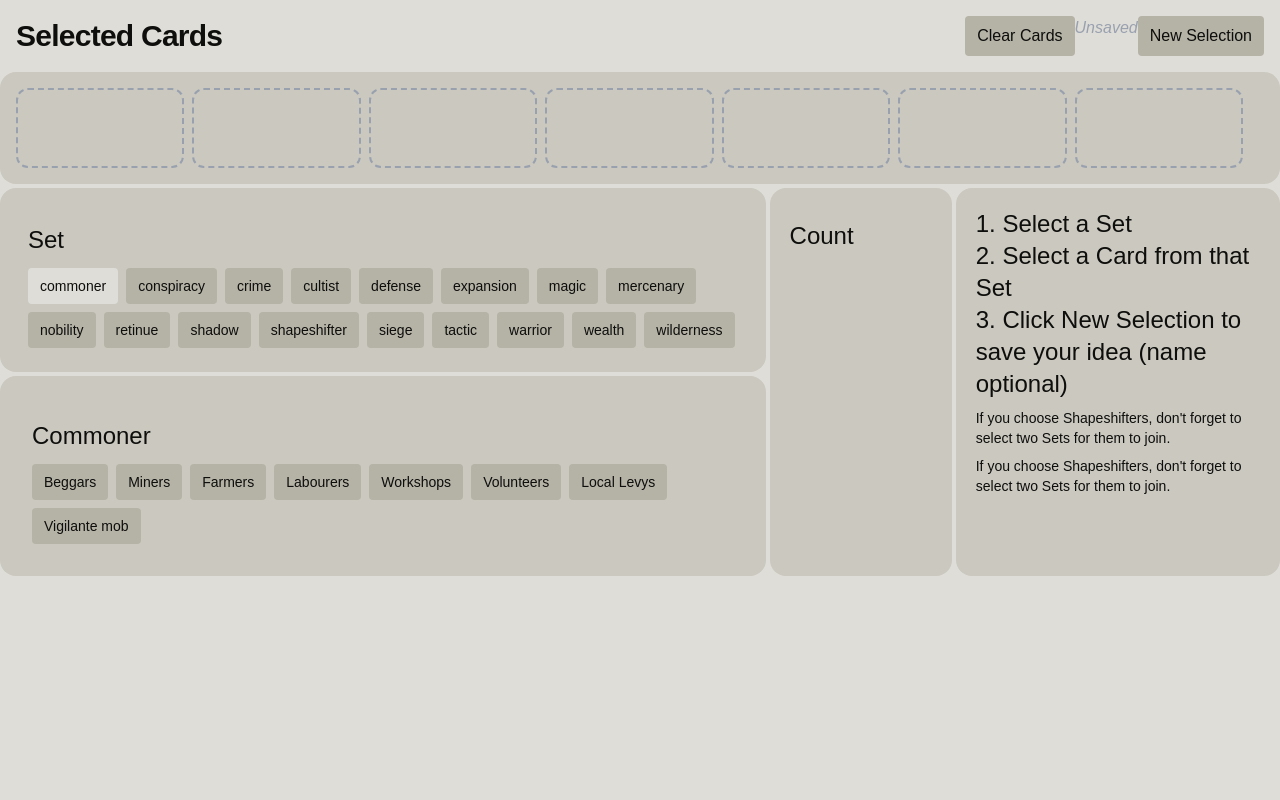
Test: BuilderPage › adds a card to slots when clicked
The width and height of the screenshot is (1280, 800).
Click the button "warrior": (530, 330) [497, 312, 564, 348]
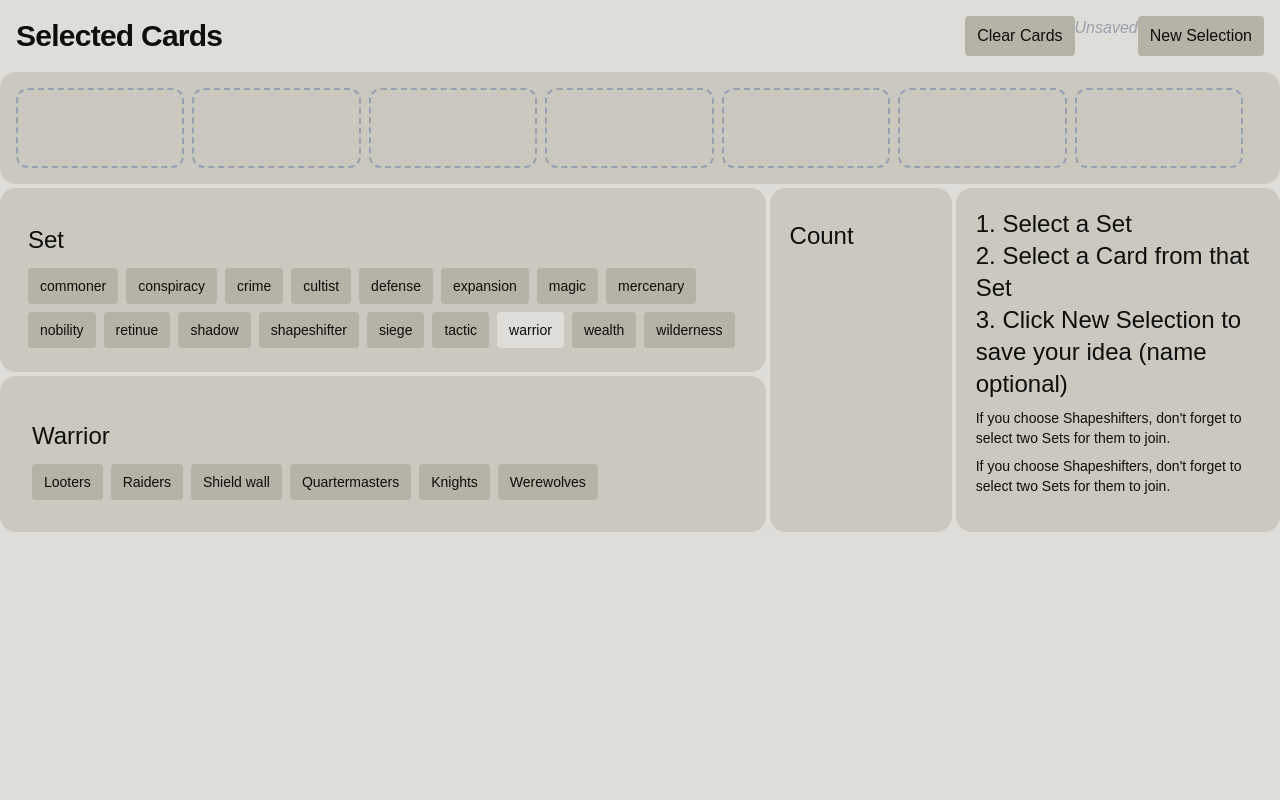
Click the button "Knights": (454, 482) [419, 464, 490, 500]
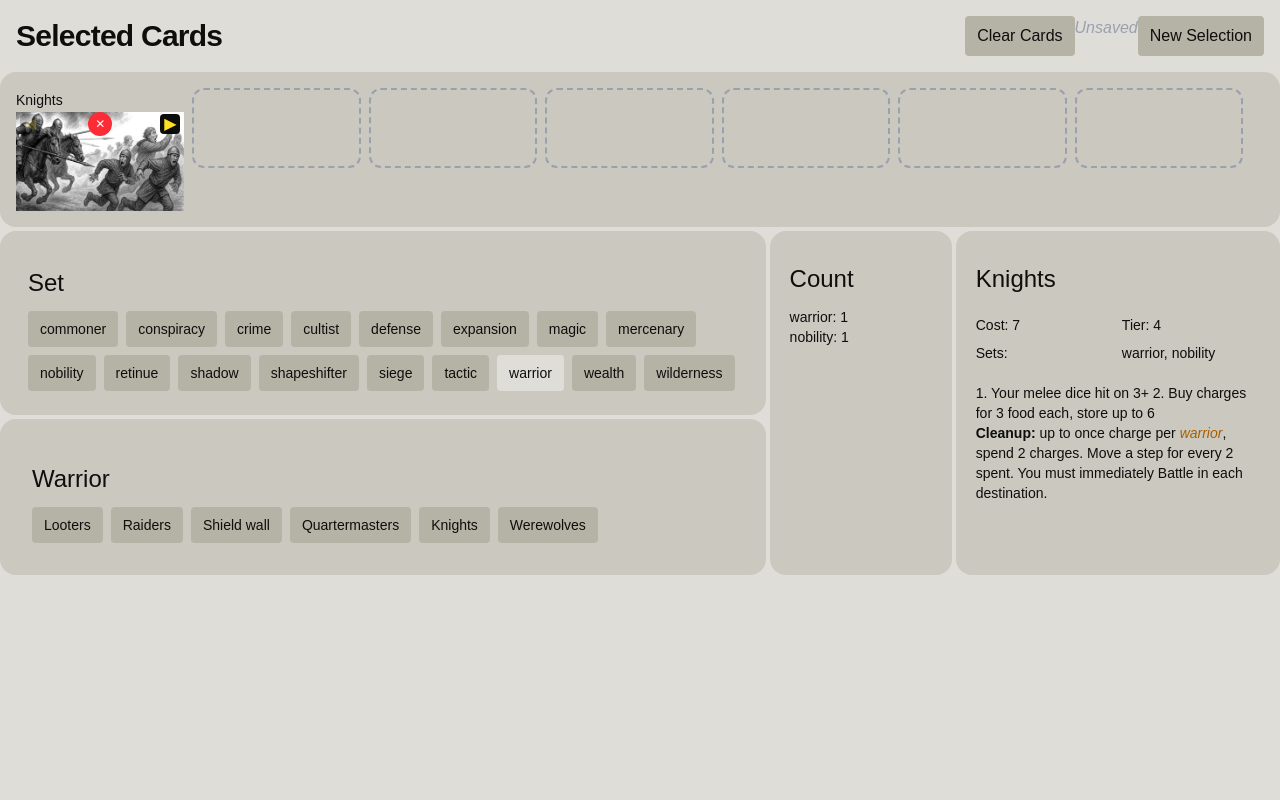
Result: the picture with alt text "Knights" is shown at [16, 112, 184, 211]
